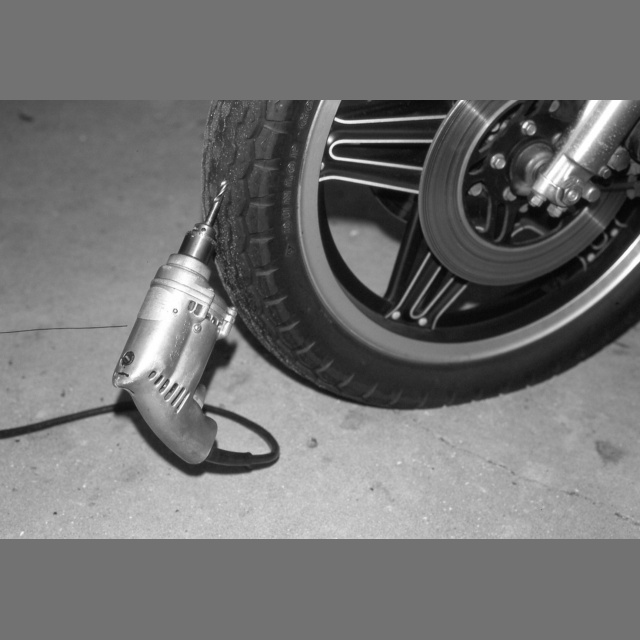drill: (112, 164, 290, 476)
